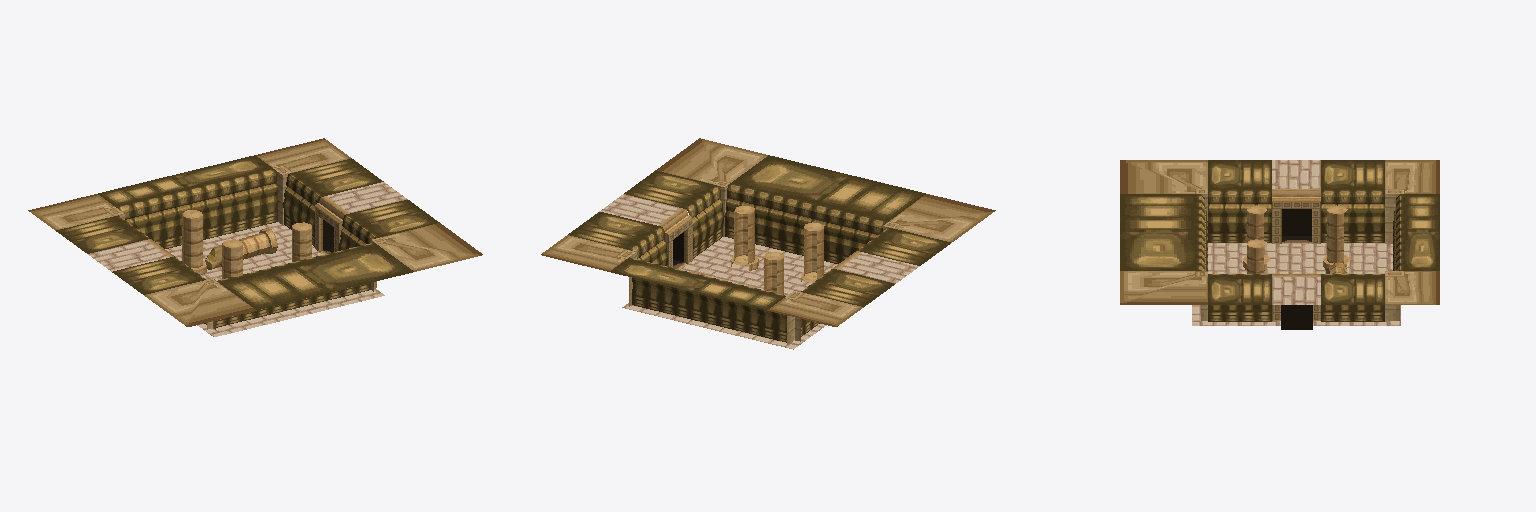
The picture shows the model from 3 angles: view 1: azimuth 30°, elevation 25°; view 2: azimuth 150°, elevation 25°; view 3: azimuth 270°, elevation 25°; orthographic projection.
Visible parts, largest first — view 1: in10_zou02_lay0_QUADS_VisGroup0, in10_tile05_lay0_QUADS_VisGroup0, in10_tile04_lay0_QUADS_VisGroup0, in10_zou01_lay0_QUADS_VisGroup0, in10_has01_lay0_QUADS_VisGroup0, in10_tile03_lay0_QUADS_VisGroup0, in10_tile06_lay0_QUADS_VisGroup0; view 2: in10_zou02_lay0_QUADS_VisGroup0, in10_tile05_lay0_QUADS_VisGroup0, in10_zou01_lay0_QUADS_VisGroup0, in10_tile04_lay0_QUADS_VisGroup0, in10_has01_lay0_QUADS_VisGroup0, in10_tile03_lay0_QUADS_VisGroup0, in10_has01_lay0_TRIS_VisGroup0, in10_tile06_lay0_QUADS_VisGroup0; view 3: in10_zou02_lay0_QUADS_VisGroup0, in10_tile05_lay0_QUADS_VisGroup0, in10_tile04_lay0_QUADS_VisGroup0, in10_zou01_lay0_QUADS_VisGroup0, in10_has01_lay0_QUADS_VisGroup0, in45_gate01_lay0_QUADS_VisGroup0, in10_tile03_lay0_QUADS_VisGroup0, in10_tile06_lay0_QUADS_VisGroup0, in10_has01_lay0_TRIS_VisGroup0.
Boxes of the visible parts, x1,y1,x2,y2 form: in10_zou02_lay0_QUADS_VisGroup0: [56, 155, 439, 327]; in10_tile05_lay0_QUADS_VisGroup0: [28, 138, 482, 326]; in10_tile04_lay0_QUADS_VisGroup0: [88, 182, 407, 336]; in10_zou01_lay0_QUADS_VisGroup0: [126, 183, 365, 250]; in10_has01_lay0_QUADS_VisGroup0: [182, 213, 311, 278]; in10_tile03_lay0_QUADS_VisGroup0: [119, 170, 376, 329]; in10_tile06_lay0_QUADS_VisGroup0: [146, 196, 349, 257]; in10_zou02_lay0_QUADS_VisGroup0: [568, 155, 950, 342]; in10_tile05_lay0_QUADS_VisGroup0: [541, 138, 995, 326]; in10_zou01_lay0_QUADS_VisGroup0: [632, 198, 877, 332]; in10_tile04_lay0_QUADS_VisGroup0: [599, 194, 919, 349]; in10_has01_lay0_QUADS_VisGroup0: [694, 210, 823, 294]; in10_tile03_lay0_QUADS_VisGroup0: [629, 185, 888, 344]; in10_has01_lay0_TRIS_VisGroup0: [700, 206, 825, 281]; in10_tile06_lay0_QUADS_VisGroup0: [658, 208, 860, 269]; in10_zou02_lay0_QUADS_VisGroup0: [1120, 160, 1439, 321]; in10_tile05_lay0_QUADS_VisGroup0: [1120, 160, 1439, 320]; in10_tile04_lay0_QUADS_VisGroup0: [1192, 160, 1400, 325]; in10_zou01_lay0_QUADS_VisGroup0: [1205, 204, 1395, 311]; in10_has01_lay0_QUADS_VisGroup0: [1243, 211, 1347, 273]; in45_gate01_lay0_QUADS_VisGroup0: [1281, 209, 1312, 329]; in10_tile03_lay0_QUADS_VisGroup0: [1201, 194, 1399, 320]; in10_tile06_lay0_QUADS_VisGroup0: [1272, 189, 1320, 276]; in10_has01_lay0_TRIS_VisGroup0: [1243, 205, 1350, 273].
Size of the model in its own units: 342 by 64.41 by 319.
Materials: 10 (10 with a texture image).